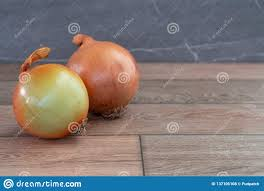onion: (12, 62, 89, 140), (66, 40, 140, 119)
